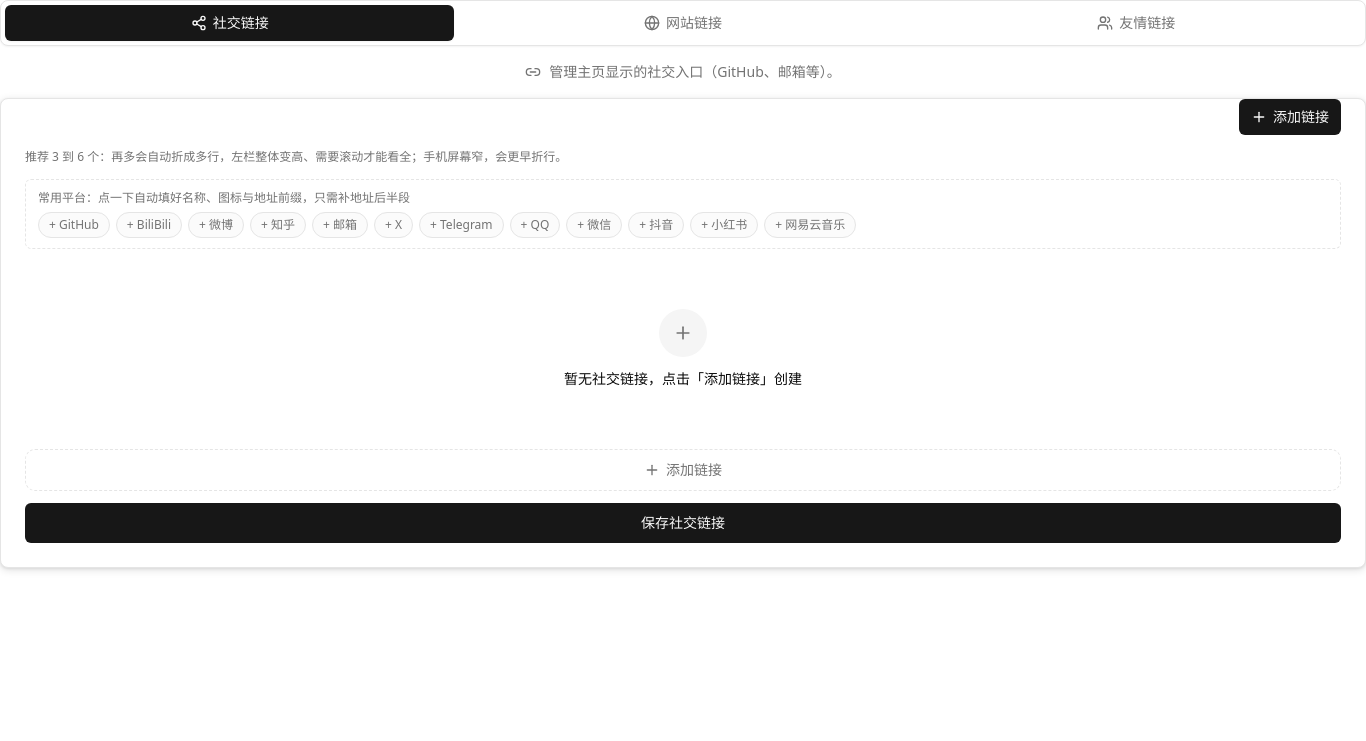
Test: 社交链接常用平台预设 › 地址前缀为 mailto: 的预设同样可用
The width and height of the screenshot is (1366, 741).
Click the button "+ 邮箱": (340, 224) [312,212,368,238]
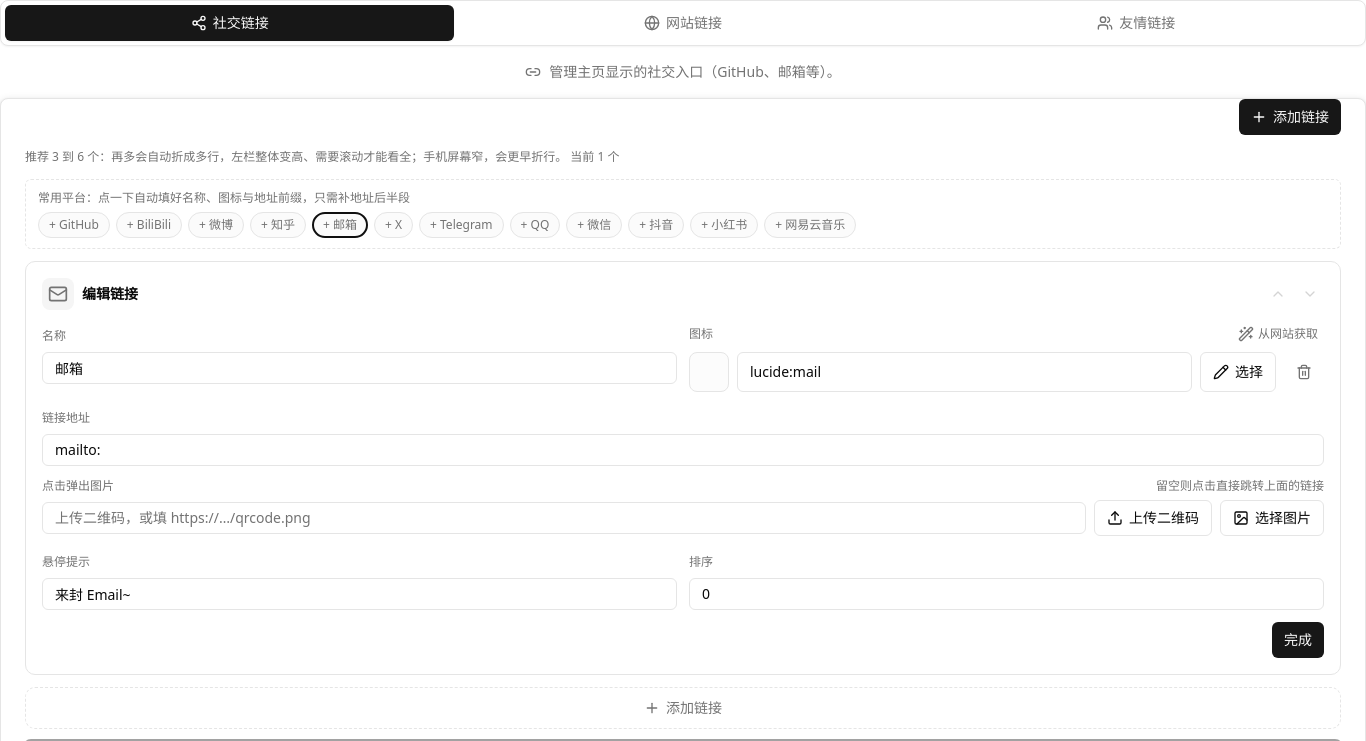
Expected: the field labelled "名称" holds "邮箱", [42,352,677,384]
Expected: the field labelled "图标" holds "lucide:mail", [737,352,1192,392]
Expected: the field labelled "链接地址" holds "mailto:", [42,434,1324,466]
